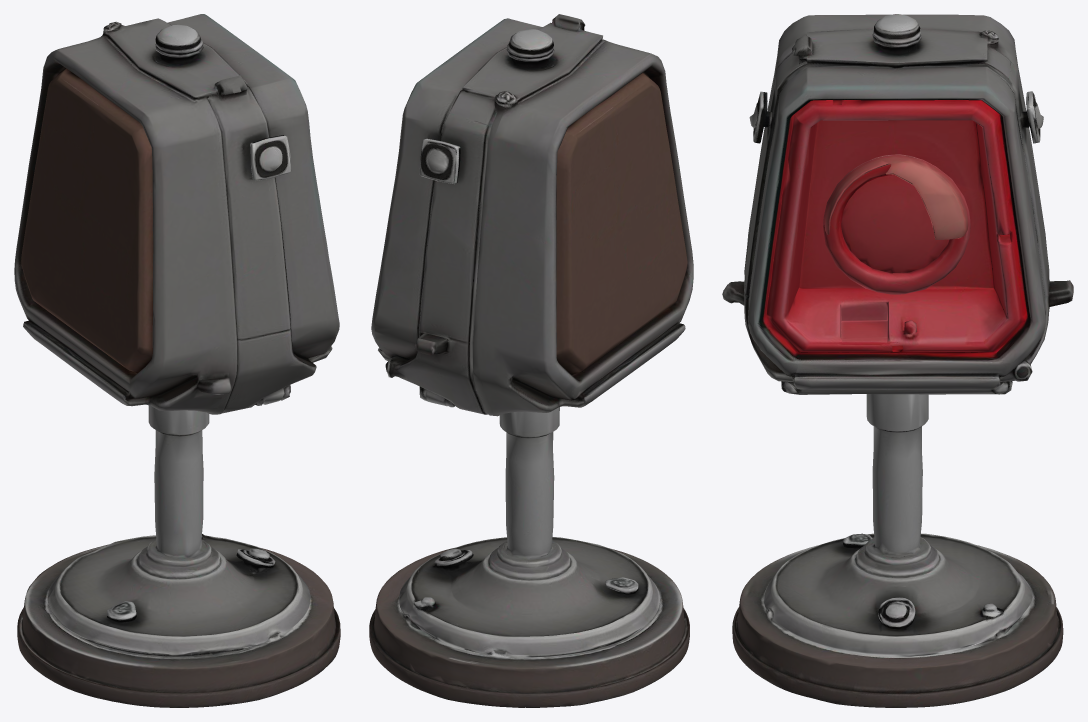
The model's file is prime_time.glb.
3 views of the same model, side by side, from view 1: azimuth 30°, elevation 25°; view 2: azimuth 150°, elevation 25°; view 3: azimuth 270°, elevation 25° (orthographic). The views are drawn at different scales.
Parts seen in each view (by area): view 1: tripo_node_1ff64e20-608b-4072-bfea-faa6130f53a8; view 2: tripo_node_1ff64e20-608b-4072-bfea-faa6130f53a8; view 3: tripo_node_1ff64e20-608b-4072-bfea-faa6130f53a8.
Boxes of the visible parts, x1,y1,x2,y2 form: tripo_node_1ff64e20-608b-4072-bfea-faa6130f53a8: (14,14,340,707); tripo_node_1ff64e20-608b-4072-bfea-faa6130f53a8: (369,14,693,707); tripo_node_1ff64e20-608b-4072-bfea-faa6130f53a8: (722,14,1073,707).
Size of the model in its own units: 0.4682 by 0.979 by 0.5019.
Materials: 1 (1 with a texture image).
